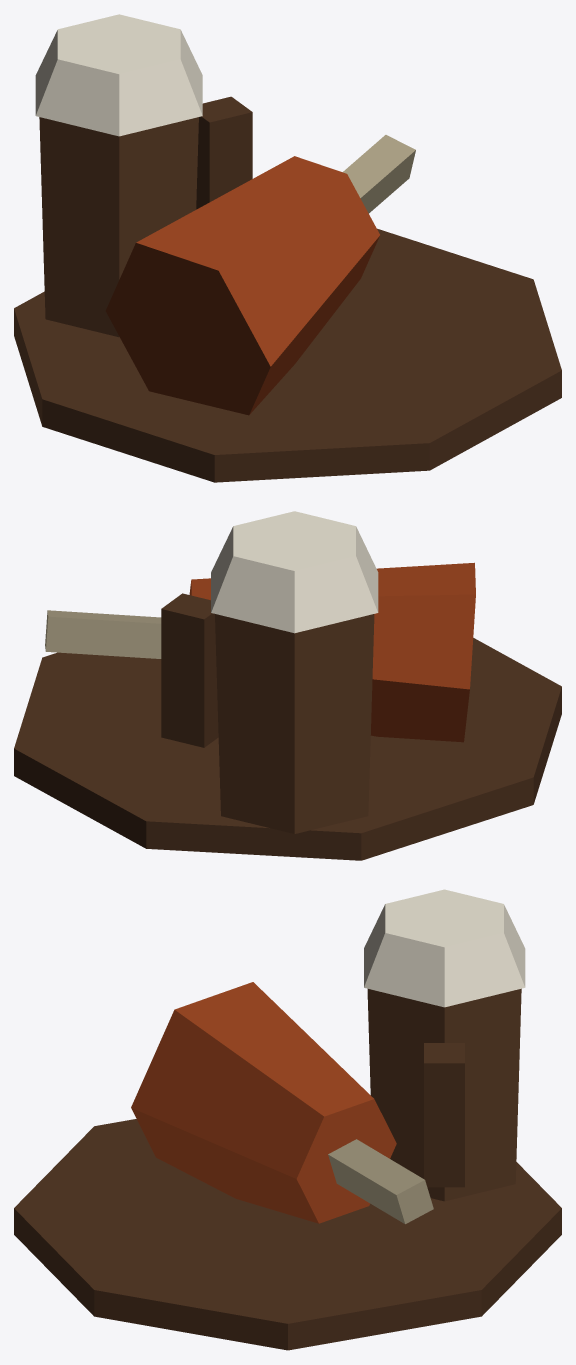
Rendered from dwarven_feast.glb.
3 views of the same model, one above another, from view 1: azimuth 30°, elevation 25°; view 2: azimuth 150°, elevation 25°; view 3: azimuth 270°, elevation 25° (orthographic). The views are drawn at different scales.
Visible parts, largest first — view 1: dwarven_feast; view 2: dwarven_feast; view 3: dwarven_feast.
Part boxes in pixels (x1,y1,x2,y2): dwarven_feast: (14, 14, 561, 482); dwarven_feast: (14, 511, 561, 860); dwarven_feast: (14, 889, 561, 1350).
Bounding box in the file's own units: 0.7 × 0.3875 × 0.7.
